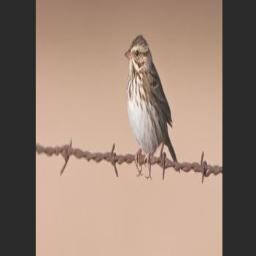Sparrow: (123, 35, 182, 178)
